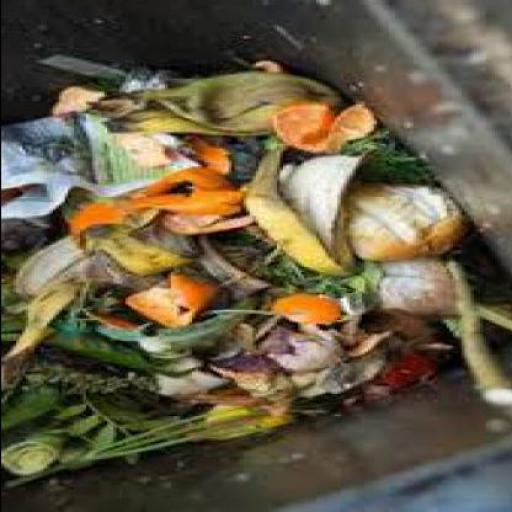biodegradable: (3, 407, 300, 490), (82, 73, 336, 142), (236, 136, 354, 280), (39, 367, 203, 450), (72, 300, 264, 361), (60, 172, 236, 238), (445, 257, 509, 408), (346, 185, 466, 262), (6, 236, 134, 300), (46, 324, 188, 378), (222, 319, 290, 417), (242, 258, 357, 312), (1, 282, 79, 360), (264, 104, 376, 158), (334, 136, 433, 188), (345, 310, 445, 361), (366, 263, 452, 320), (121, 278, 206, 330), (296, 352, 388, 400), (1, 252, 46, 344), (303, 378, 397, 422), (100, 228, 197, 270), (251, 330, 340, 374), (2, 378, 60, 433), (0, 433, 64, 481), (214, 134, 272, 186), (366, 358, 436, 400), (428, 305, 509, 339), (260, 296, 346, 328), (154, 209, 242, 240), (49, 88, 115, 118), (185, 134, 230, 176), (1, 217, 43, 257), (118, 68, 160, 98), (245, 62, 285, 75)
paper: (1, 117, 191, 221)
